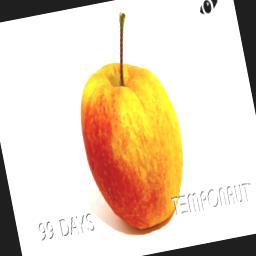Apple Ripe: (57, 0, 199, 238)
